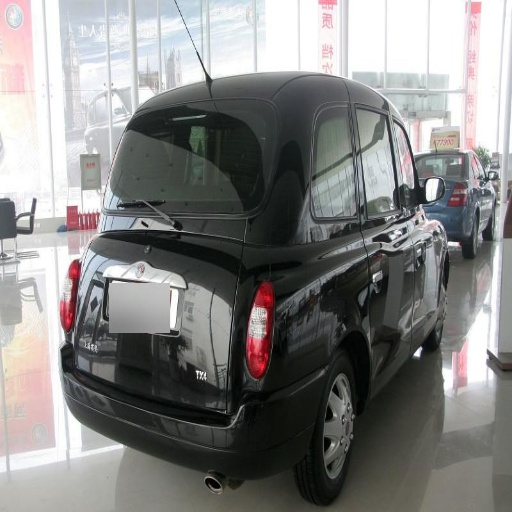back_bumper: (70, 372, 322, 493)
back_right_door: (336, 122, 412, 346)
trunk: (77, 210, 240, 421), (219, 75, 361, 181), (299, 262, 345, 372)
